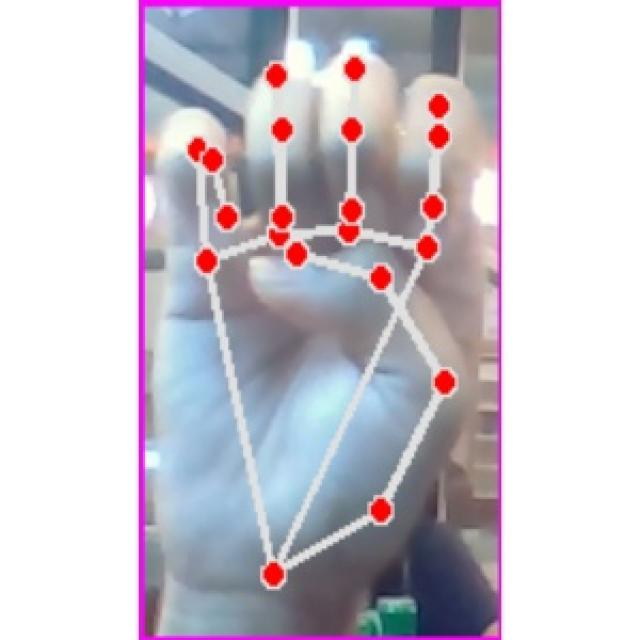E: (148, 46, 492, 596)
